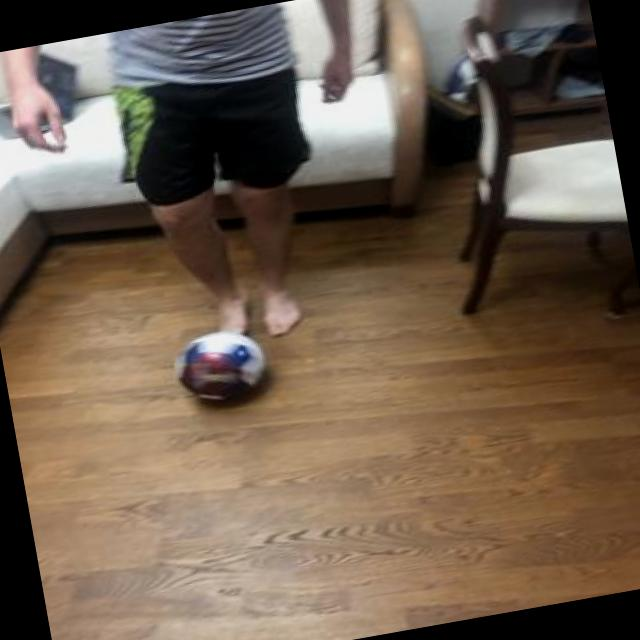Soccer Ball: (163, 325, 268, 409)
